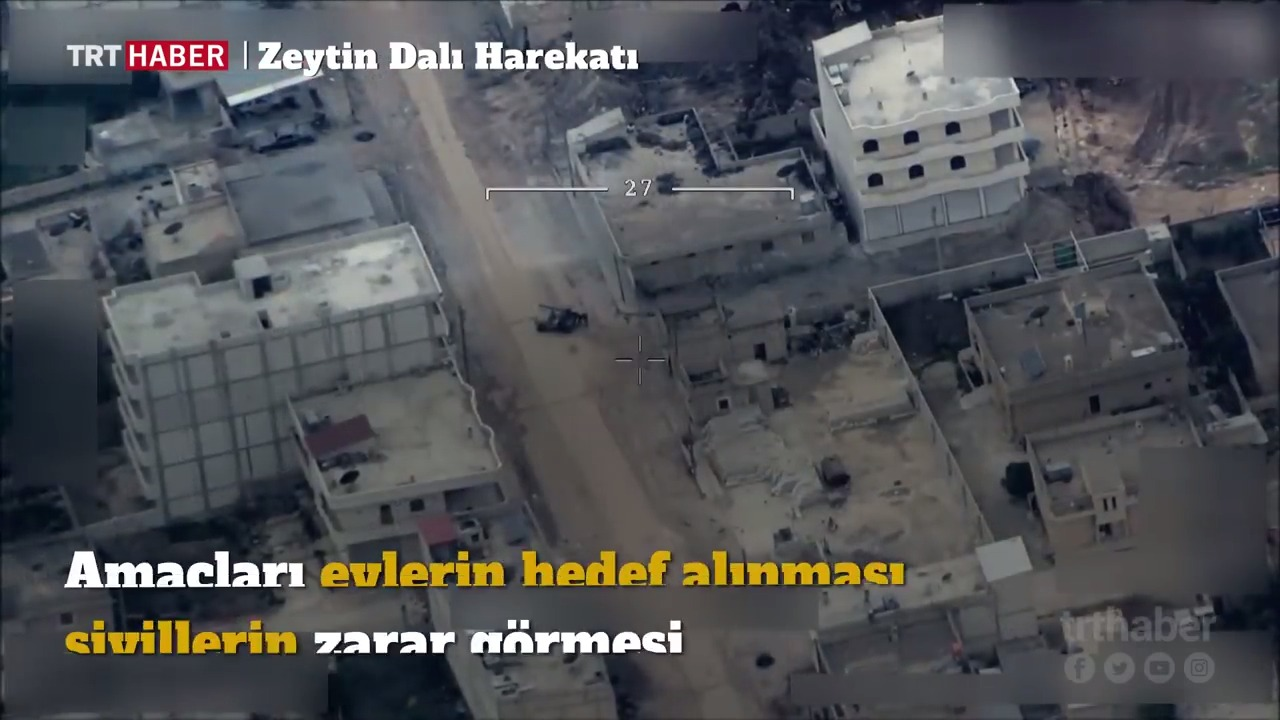arac: (250, 118, 319, 159), (228, 84, 292, 117), (526, 298, 578, 332)
bina: (91, 214, 438, 521), (556, 93, 837, 299), (803, 11, 1034, 250), (962, 253, 1190, 435), (296, 361, 490, 552)
insan: (579, 305, 591, 328)
